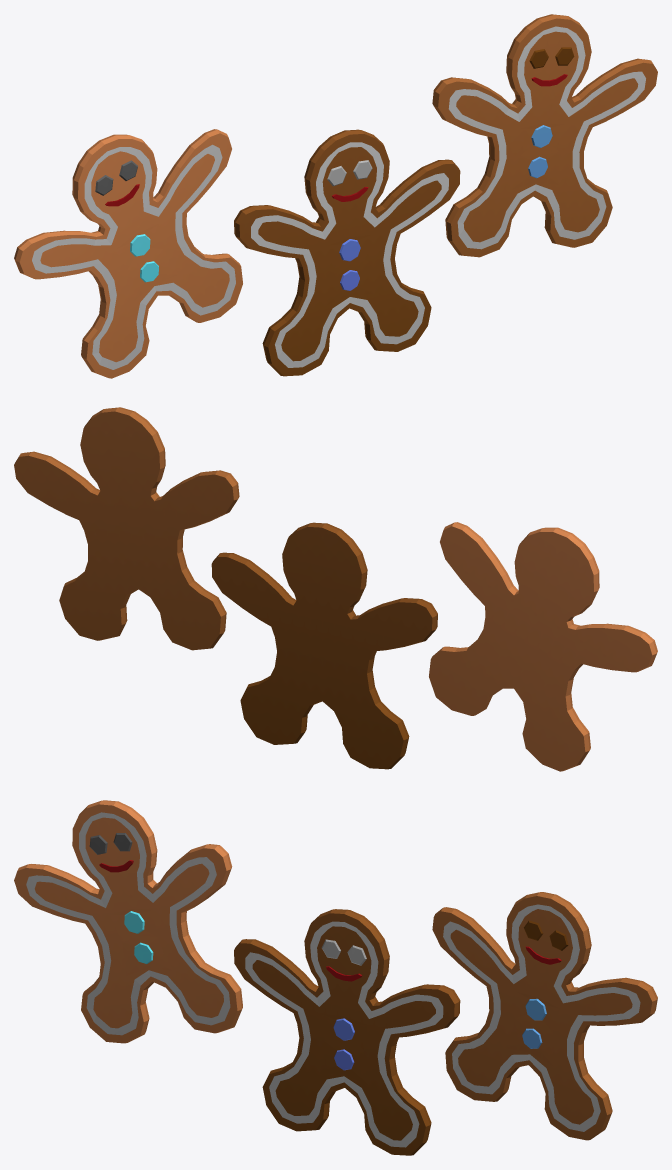
The model's file is Christmas_Cookies.glb.
3 views of the same model, one above another, from view 1: azimuth 30°, elevation 25°; view 2: azimuth 150°, elevation 25°; view 3: azimuth 330°, elevation 25° (orthographic).
Visible parts, largest first — view 1: Cookie.001, Cookie.002, Cookie; view 2: Cookie.001, Cookie.002, Cookie; view 3: Cookie.002, Cookie, Cookie.001.
Boxes of the visible parts, left/top/right/bottom form: Cookie.001: left=432, top=14, right=657, bottom=257; Cookie.002: left=14, top=129, right=242, bottom=378; Cookie: left=234, top=129, right=460, bottom=376; Cookie.001: left=14, top=407, right=239, bottom=650; Cookie.002: left=429, top=522, right=657, bottom=771; Cookie: left=211, top=522, right=437, bottom=769; Cookie.002: left=14, top=800, right=242, bottom=1043; Cookie: left=234, top=909, right=460, bottom=1155; Cookie.001: left=432, top=892, right=657, bottom=1140.
Bounding box in the file's own units: 0.7982 × 0.3543 × 0.0142.
1 material, 1 textured.
